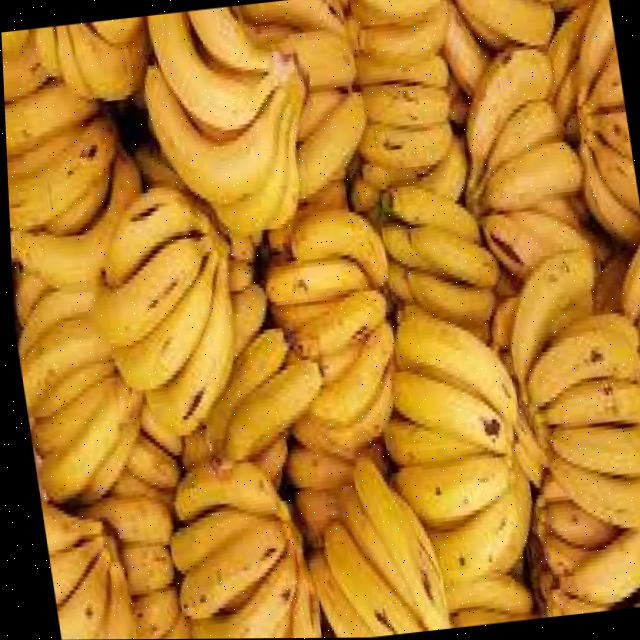Banana: (144, 66, 285, 204), (336, 460, 442, 628), (8, 151, 136, 287), (147, 12, 277, 129), (179, 330, 284, 466), (211, 74, 297, 235), (392, 313, 513, 427), (112, 257, 212, 390), (142, 278, 227, 432), (506, 254, 590, 403), (424, 463, 523, 585), (6, 118, 112, 230), (95, 243, 209, 347), (465, 50, 547, 194), (320, 524, 415, 636), (36, 378, 121, 500), (175, 518, 278, 618), (389, 371, 506, 454), (221, 358, 317, 456), (291, 361, 387, 458), (103, 200, 206, 284), (524, 330, 634, 408), (15, 315, 105, 409), (389, 454, 506, 526), (306, 327, 389, 427), (187, 558, 289, 639), (289, 209, 384, 287), (479, 211, 589, 278), (478, 142, 579, 212), (297, 94, 364, 199), (546, 456, 640, 529), (4, 81, 98, 154), (56, 23, 146, 99), (29, 378, 111, 455), (288, 292, 381, 358), (581, 142, 640, 244), (483, 102, 559, 178), (565, 527, 640, 603), (188, 7, 275, 72), (165, 509, 254, 571), (406, 226, 495, 287), (171, 463, 273, 516), (303, 552, 365, 638), (405, 269, 491, 327), (379, 417, 478, 466), (454, 0, 553, 48), (546, 426, 640, 476), (531, 379, 640, 422), (263, 257, 365, 302), (388, 186, 476, 238), (50, 549, 99, 640), (77, 495, 167, 544), (442, 0, 487, 97), (88, 539, 129, 640), (358, 124, 450, 169), (576, 0, 614, 105), (285, 33, 355, 89), (360, 84, 448, 128), (43, 537, 98, 606), (440, 574, 525, 614), (593, 141, 639, 214), (543, 501, 611, 549), (353, 53, 445, 88), (416, 137, 465, 202), (282, 447, 348, 490), (115, 544, 167, 595), (584, 111, 631, 158), (126, 589, 170, 639), (229, 292, 261, 359), (618, 239, 640, 323), (359, 0, 432, 22)
